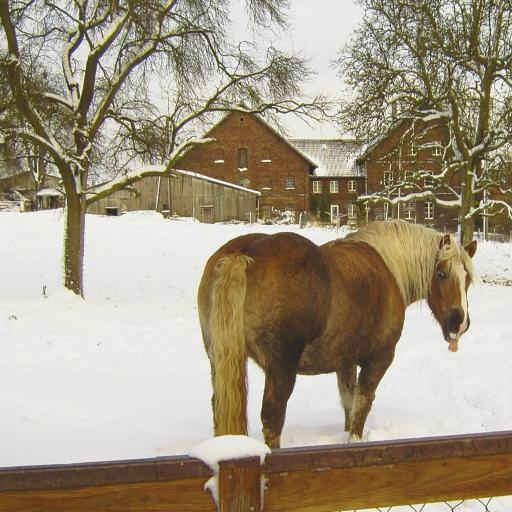horse: (195, 216, 478, 446)
